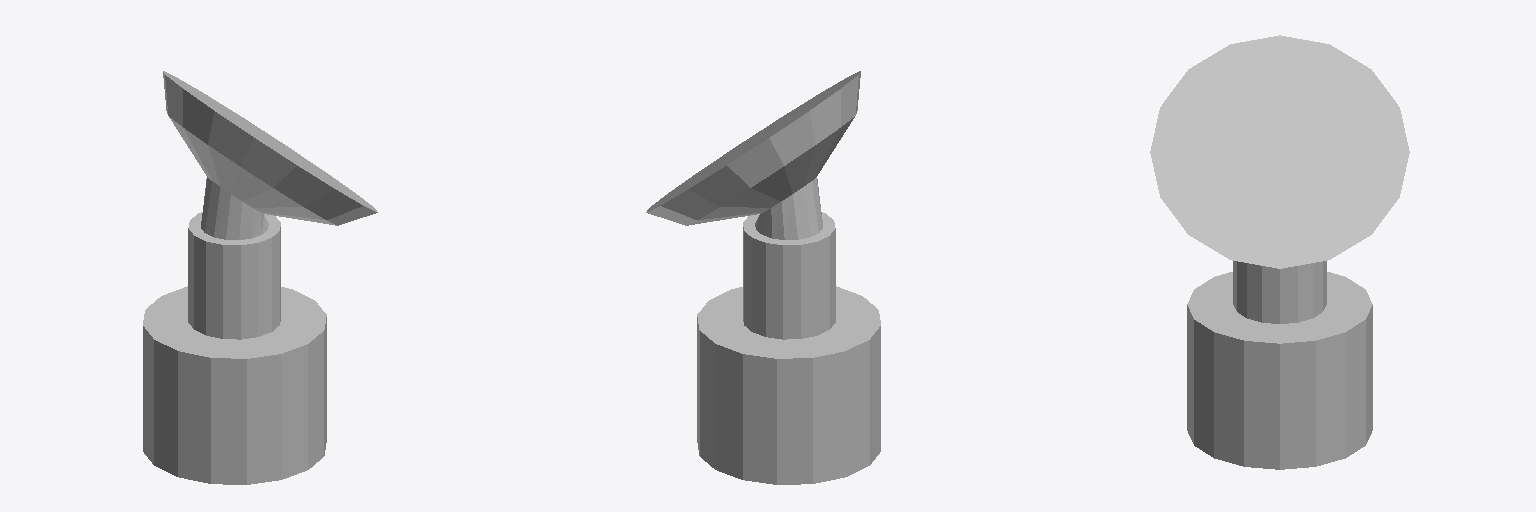
The model's file is base_antena.obj.
The picture shows the model from 3 angles: view 1: azimuth 30°, elevation 25°; view 2: azimuth 150°, elevation 25°; view 3: azimuth 270°, elevation 25°; orthographic projection.
Visible parts, largest first — view 1: base_antena_Cylinder.004; view 2: base_antena_Cylinder.004; view 3: base_antena_Cylinder.004.
Part boxes in pixels (x1,y1,x2,y2): base_antena_Cylinder.004: (143, 71, 377, 484); base_antena_Cylinder.004: (646, 71, 880, 484); base_antena_Cylinder.004: (1150, 35, 1409, 469).
Bounding box in the file's own units: 1.35 × 2.36 × 1.5.